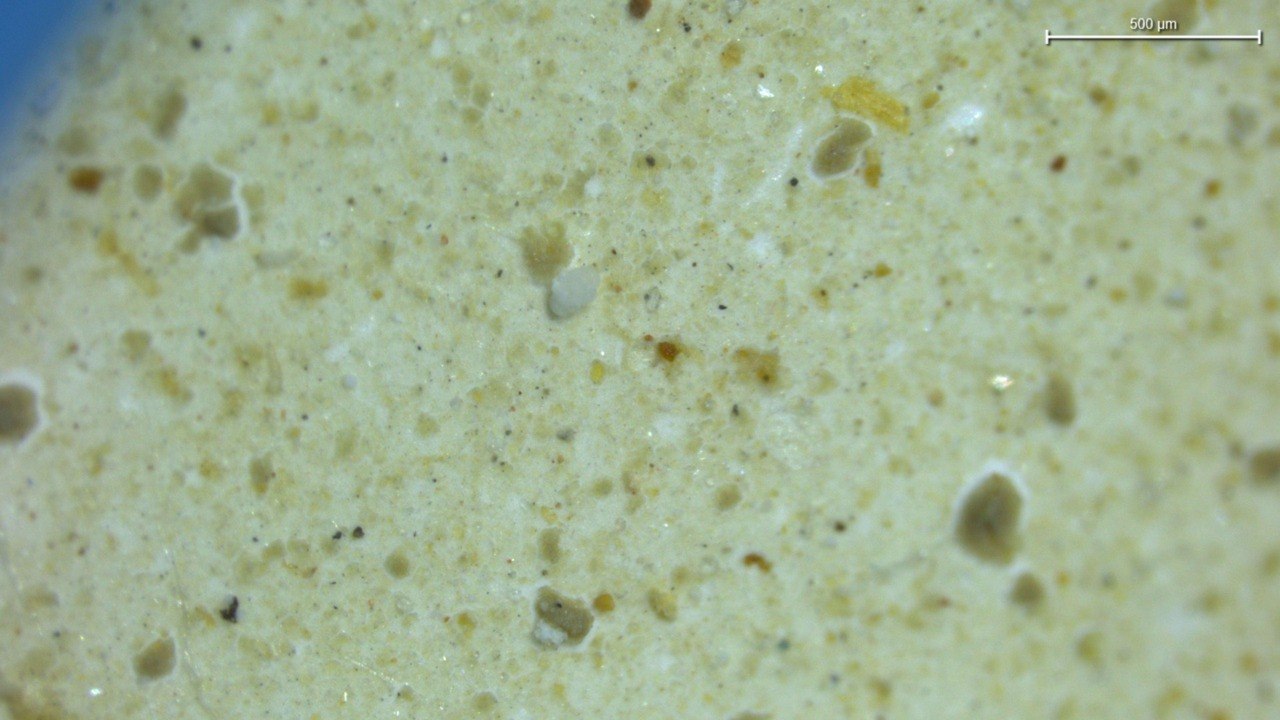microplastic_fragment: (549, 267, 599, 318)
